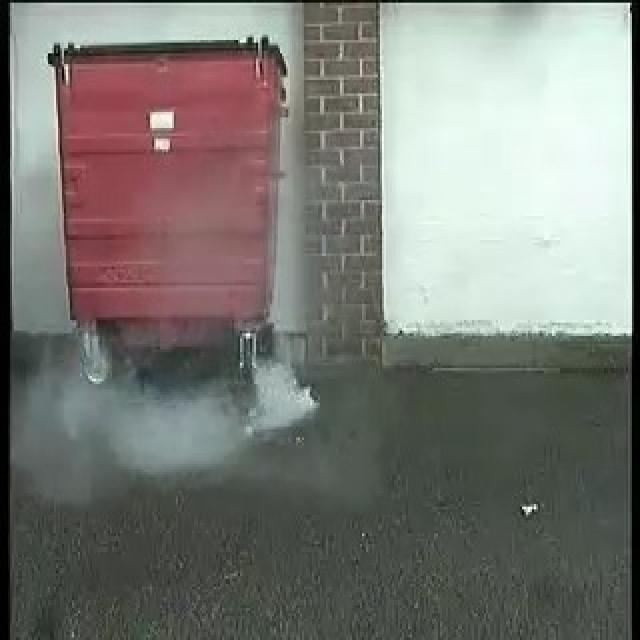smoke: (106, 351, 319, 462)
